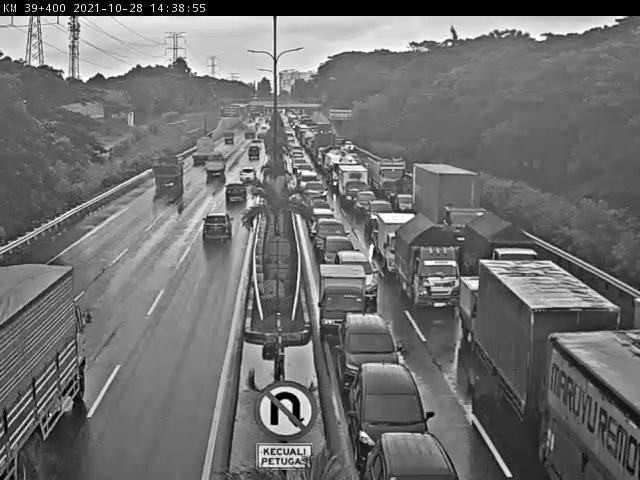big truck: (479, 259, 626, 446), (0, 266, 92, 480), (411, 161, 485, 252), (189, 136, 216, 167), (243, 125, 255, 140)
car: (349, 364, 436, 463), (335, 314, 399, 398), (363, 433, 460, 480), (335, 252, 380, 302), (319, 236, 360, 277), (312, 218, 350, 257), (201, 213, 234, 241), (367, 199, 395, 231), (309, 207, 334, 237), (300, 189, 323, 221), (224, 180, 250, 204), (297, 169, 319, 196), (355, 191, 376, 216), (238, 169, 259, 186), (250, 139, 262, 152), (254, 132, 266, 143)
small truck: (461, 209, 540, 302), (393, 215, 462, 312), (458, 274, 521, 351), (317, 261, 369, 337), (377, 212, 420, 277), (339, 165, 369, 207), (152, 153, 185, 187), (202, 155, 227, 183), (247, 146, 260, 163), (221, 132, 234, 146)
